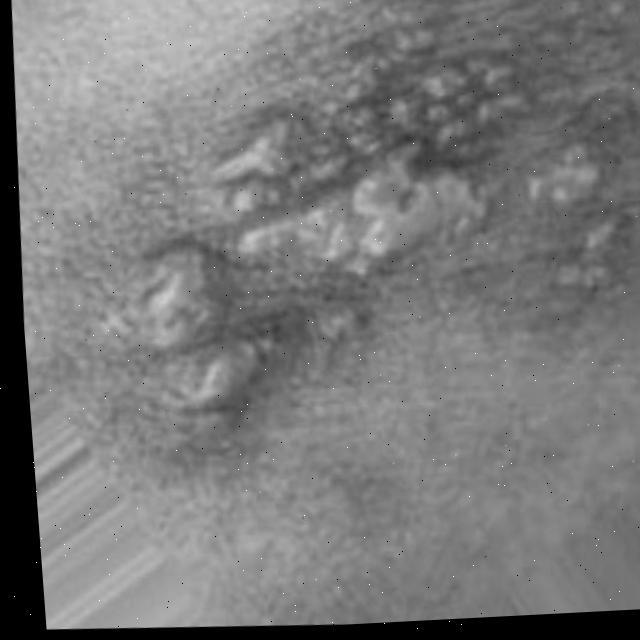Shingles: (73, 3, 640, 441)
